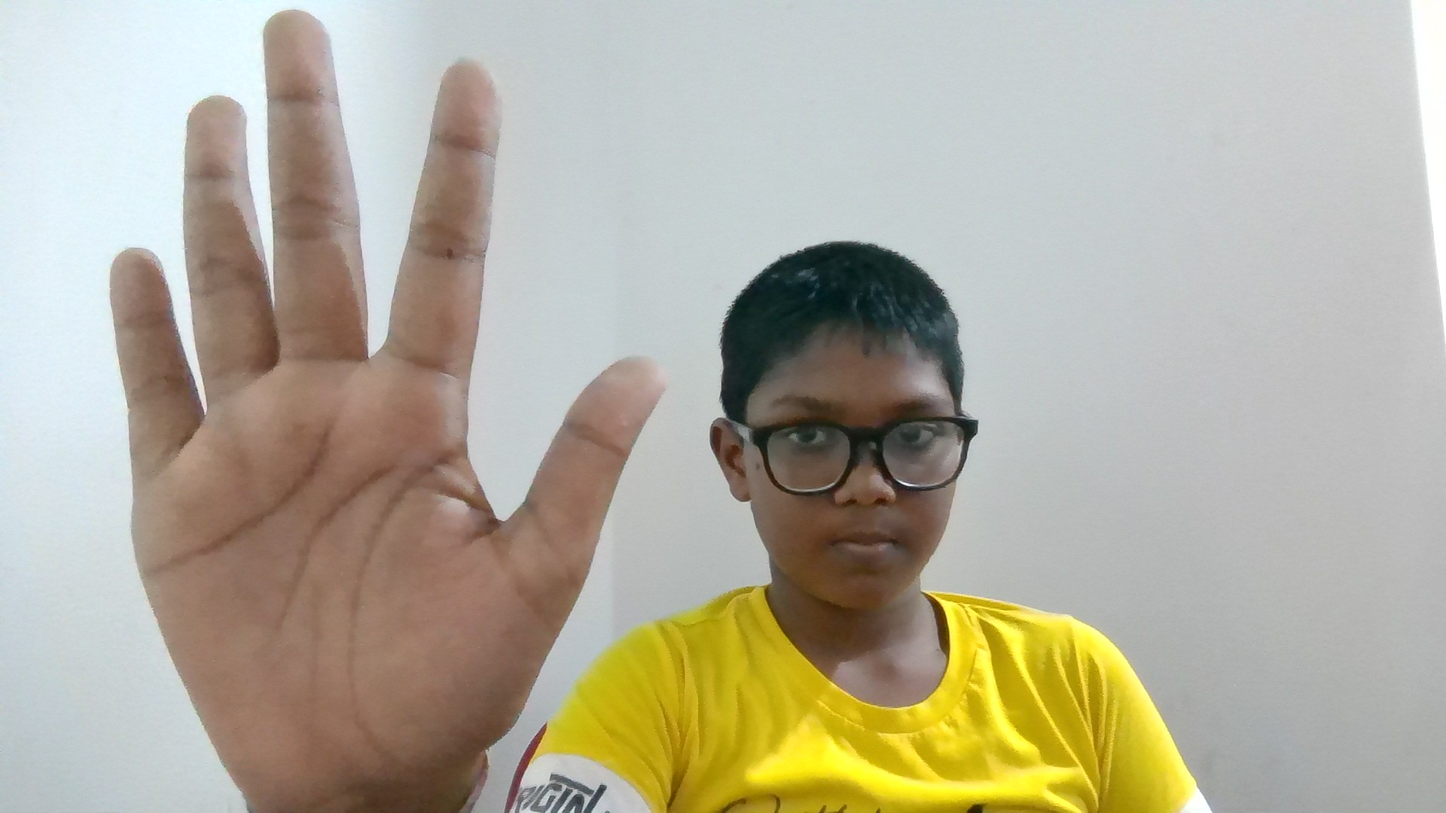Hello: (47, 0, 657, 788)
